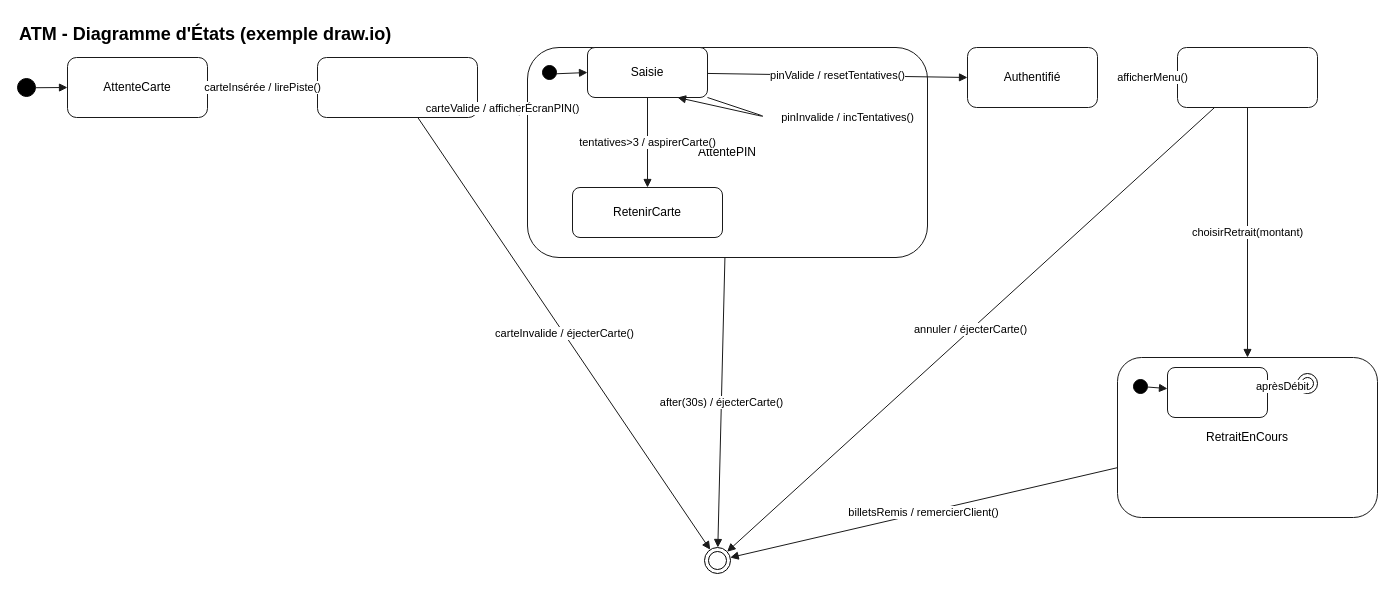
This 1395x591 diagram has some shape labels left out. The centre of each missing label's shape, as x and y in pixels:
LectureCarte: [397,87]
Prélever: [1217,392]
SélectionOp: [1247,77]
